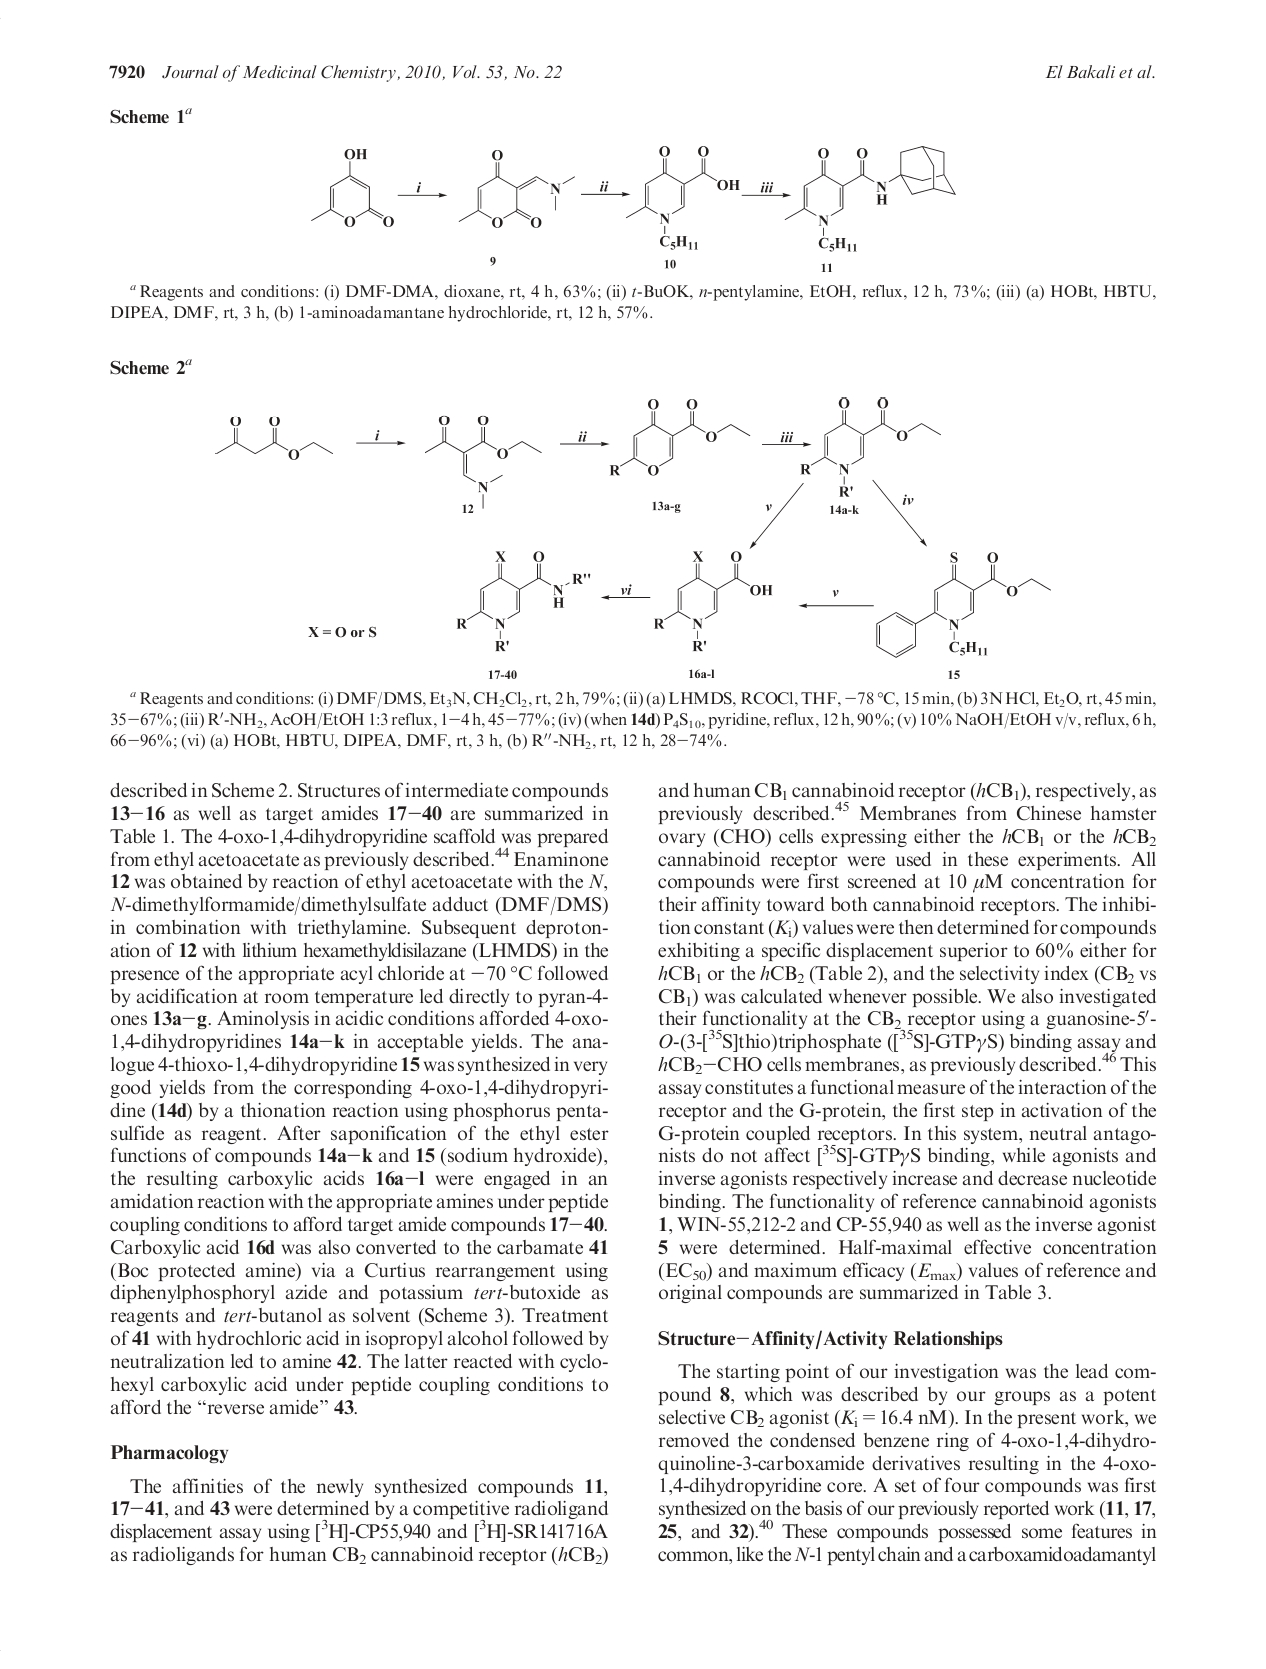exist_molecular: (875, 549, 1053, 660), (785, 145, 960, 253), (798, 394, 942, 499), (457, 547, 593, 656), (625, 141, 742, 250), (652, 549, 773, 652), (609, 394, 750, 477), (423, 414, 543, 511), (459, 148, 578, 231), (307, 146, 394, 227), (215, 415, 336, 463)
